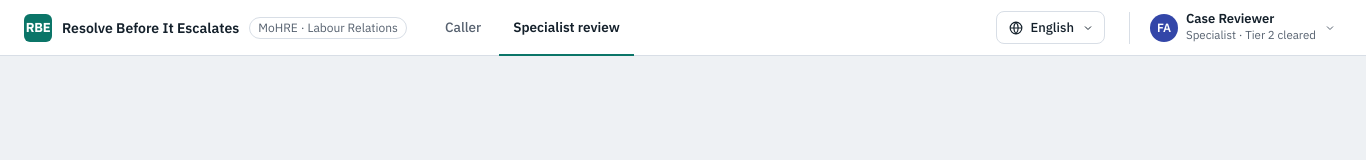
Scenario: TopBar › closes the reviewer menu on Escape
Click the button with aria-label "reviewer menu": (1244, 27) 1146,8 -> 1342,47
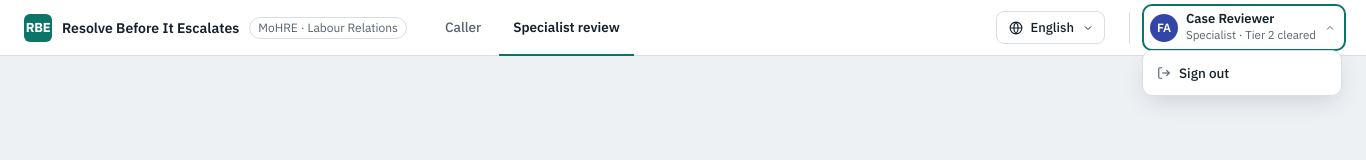
Press Escape
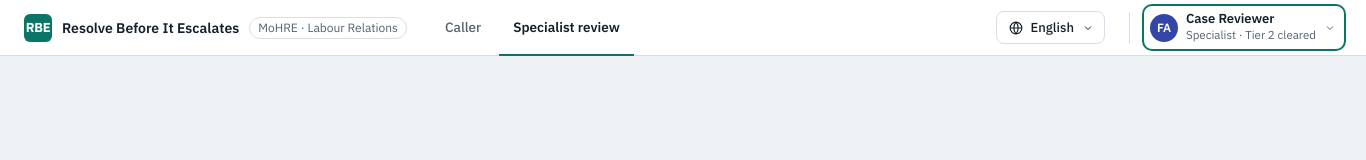
Now the menu "reviewer menu" is gone
